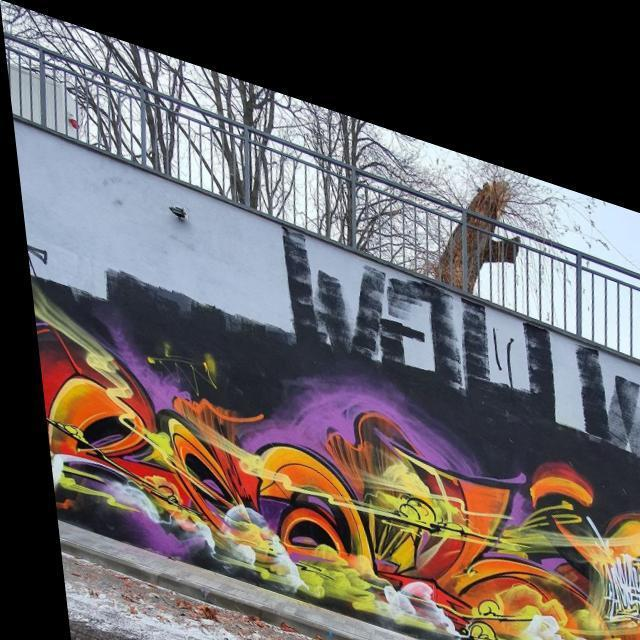-: (25, 282, 640, 640), (267, 211, 640, 434), (584, 498, 640, 600), (20, 235, 54, 290)
